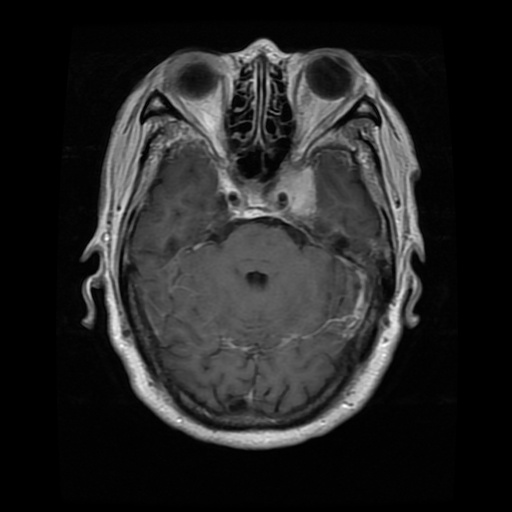meningioma: (238, 179, 267, 207)
